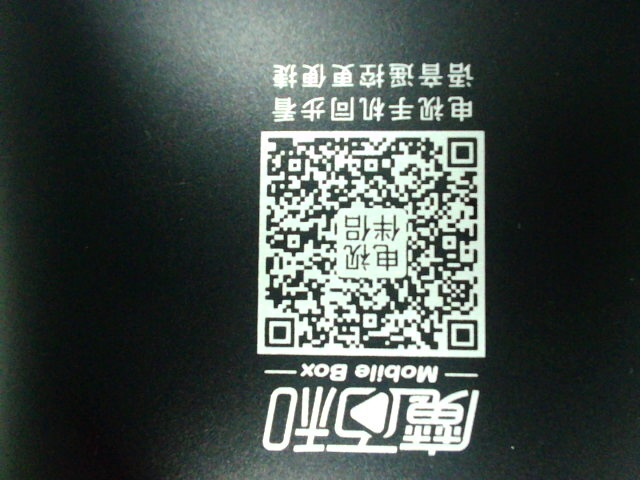AZ_MobileBox: (241, 58, 491, 458)
